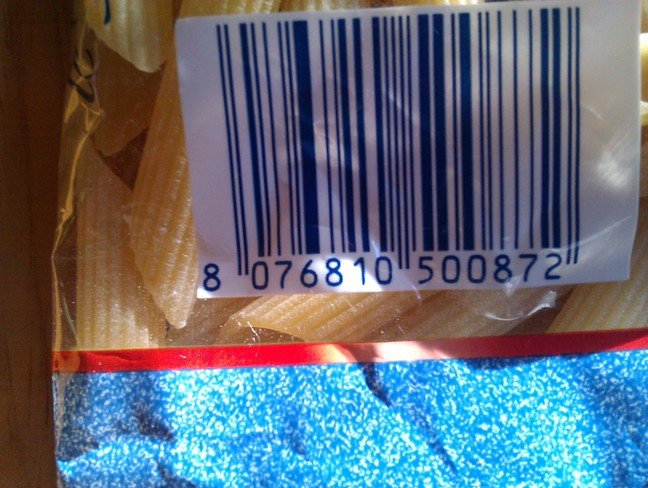barcode: (175, 7, 600, 290)
